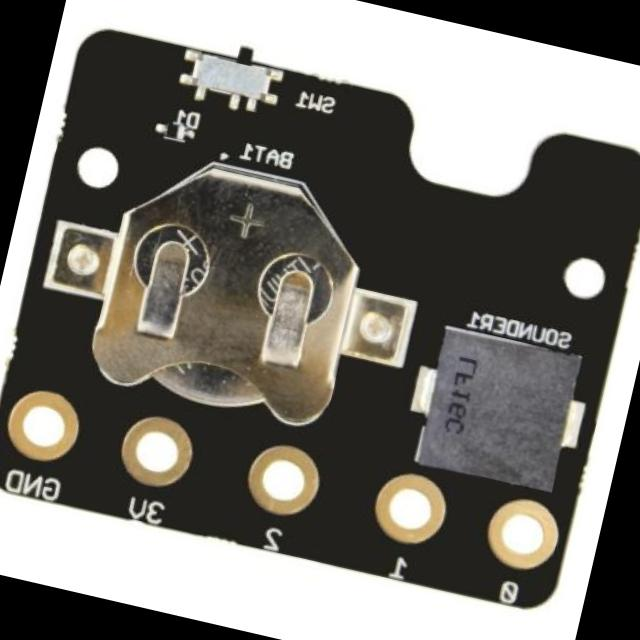diode: (154, 112, 191, 150)
